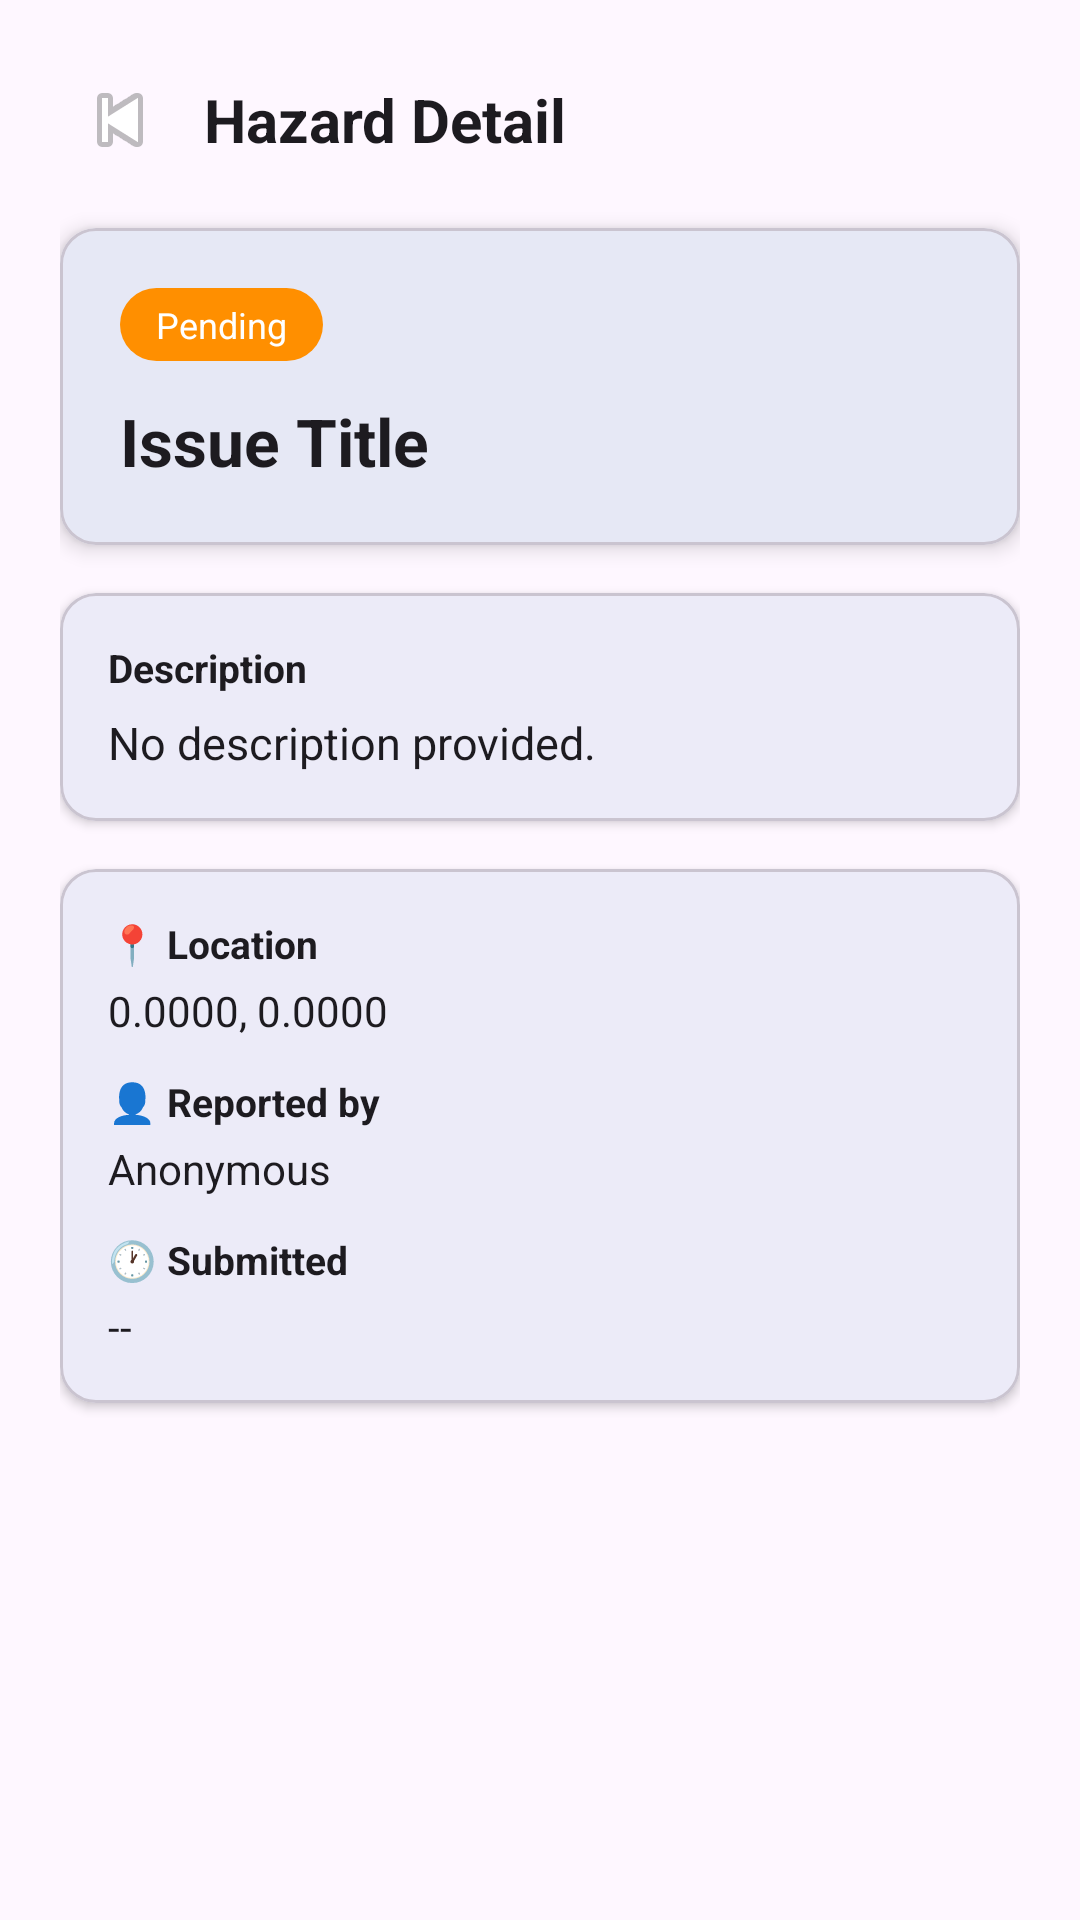

Screen size 1080×1920. Icon name, then its box in pixels as box=[x1, y1, x2, y2]:
Back: box=[97, 93, 143, 147]
